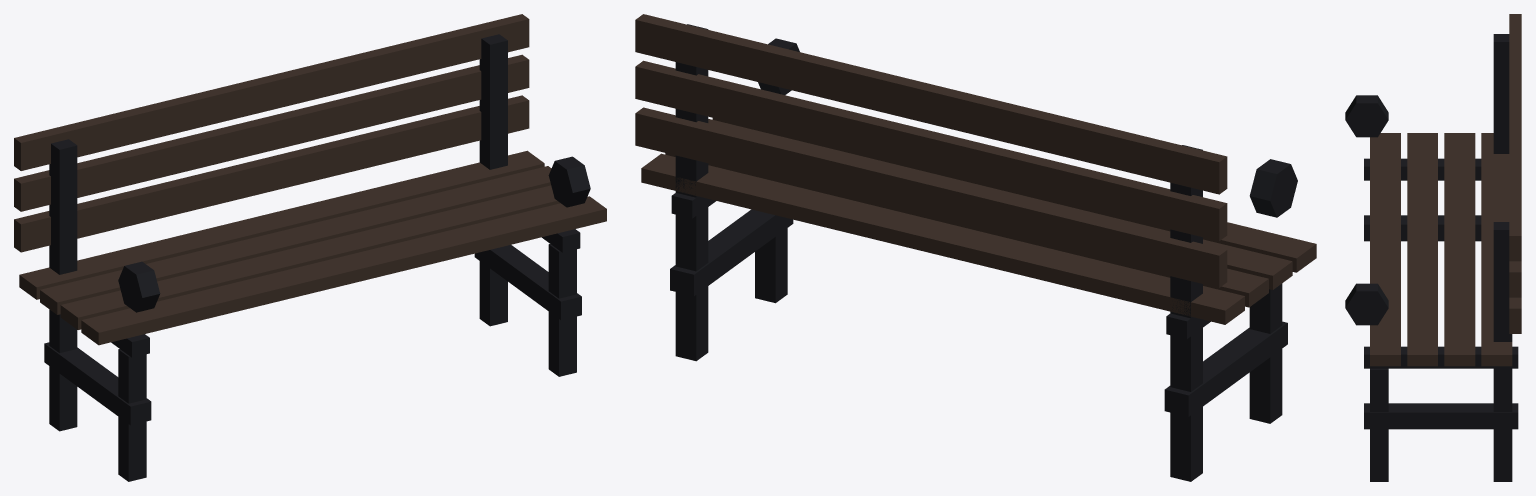
The model's file is gothic_bench.glb.
The picture shows the model from 3 angles, left to right: view 1: azimuth 30°, elevation 25°; view 2: azimuth 150°, elevation 25°; view 3: azimuth 270°, elevation 25°; orthographic projection. The views are drawn at different scales.
Visible parts, largest first — view 1: gothic_bench; view 2: gothic_bench; view 3: gothic_bench.
Part boxes in pixels (x1,y1,x2,y2): gothic_bench: (14,14,606,481); gothic_bench: (635,14,1316,481); gothic_bench: (1345,14,1521,481).
Size of the model in its own units: 1.7 by 0.925 by 0.57.
